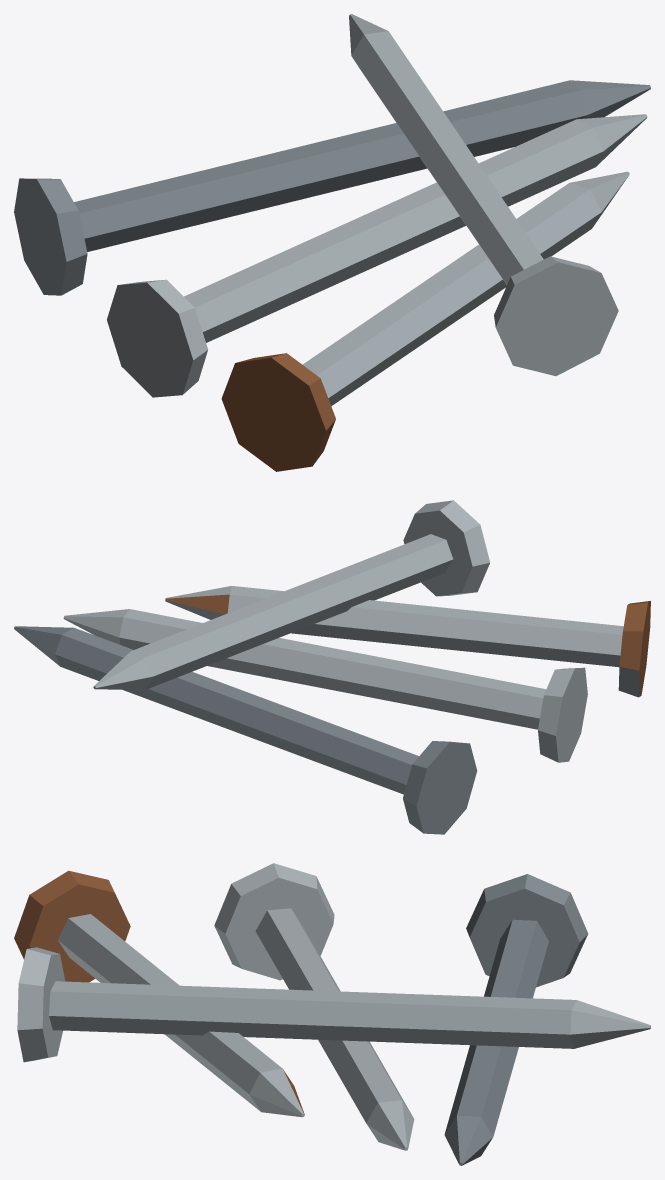
File: gwozdzie-D3C8uqlc.glb
3 renders of one model, top to bottom at view 1: azimuth 30°, elevation 25°; view 2: azimuth 150°, elevation 25°; view 3: azimuth 270°, elevation 25°, orthographic. The views are drawn at different scales.
Parts seen in each view (by area): view 1: Gwozdz1, Gwozdz0, Gwozdz2, Gwozdz3; view 2: Gwozdz1, Gwozdz0, Gwozdz3, Gwozdz2; view 3: Gwozdz3, Gwozdz0, Gwozdz1, Gwozdz2.
Boxes of the visible parts, <box> form: Gwozdz1: <box>14,80,650,295</box>; Gwozdz0: <box>107,114,647,397</box>; Gwozdz2: <box>221,171,629,471</box>; Gwozdz3: <box>349,14,618,376</box>; Gwozdz1: <box>14,626,477,834</box>; Gwozdz0: <box>63,609,587,762</box>; Gwozdz3: <box>93,500,490,690</box>; Gwozdz2: <box>165,586,650,697</box>; Gwozdz3: <box>17,947,650,1062</box>; Gwozdz0: <box>214,863,414,1150</box>; Gwozdz1: <box>444,874,588,1165</box>; Gwozdz2: <box>14,870,304,1117</box>.
Size of the model in its own units: 0.6532 by 0.1678 by 0.6216.
